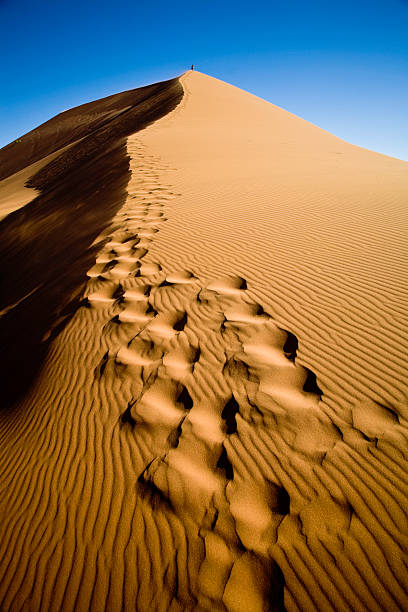human_footprint: (0, 128, 407, 611), (89, 206, 397, 609), (87, 185, 272, 607), (123, 272, 319, 598)
